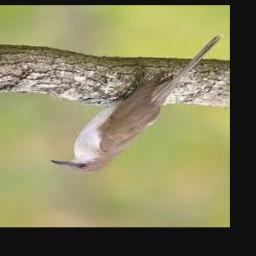Cuckoo: (50, 34, 224, 174)
